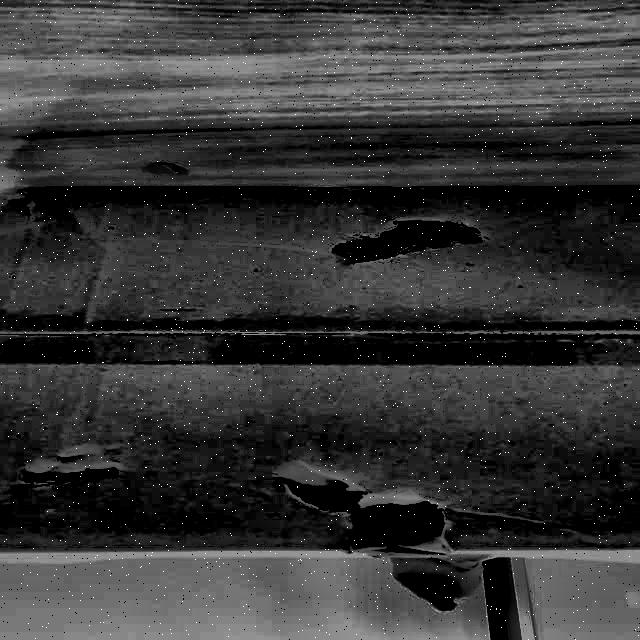box: (1, 161, 640, 585)
hole: (287, 479, 451, 551), (325, 219, 486, 261), (15, 454, 115, 488)
